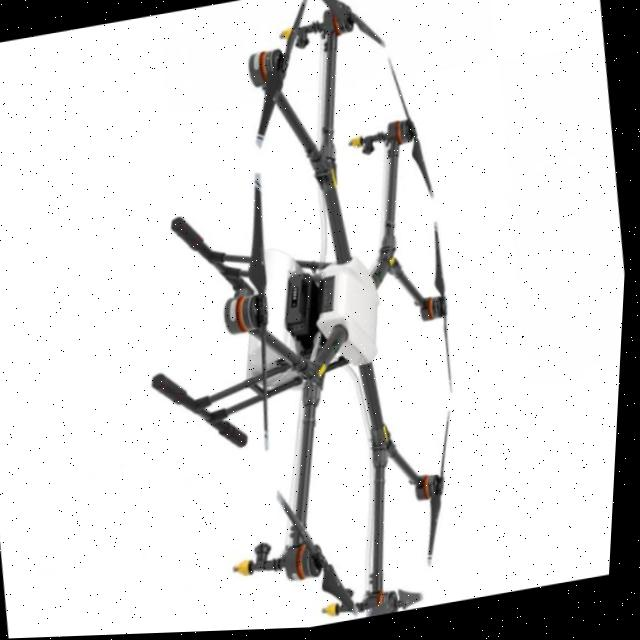drones: (80, 0, 523, 637)
